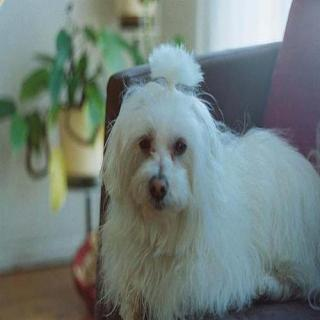dog: (87, 61, 223, 227)
nose: (147, 171, 170, 200)
